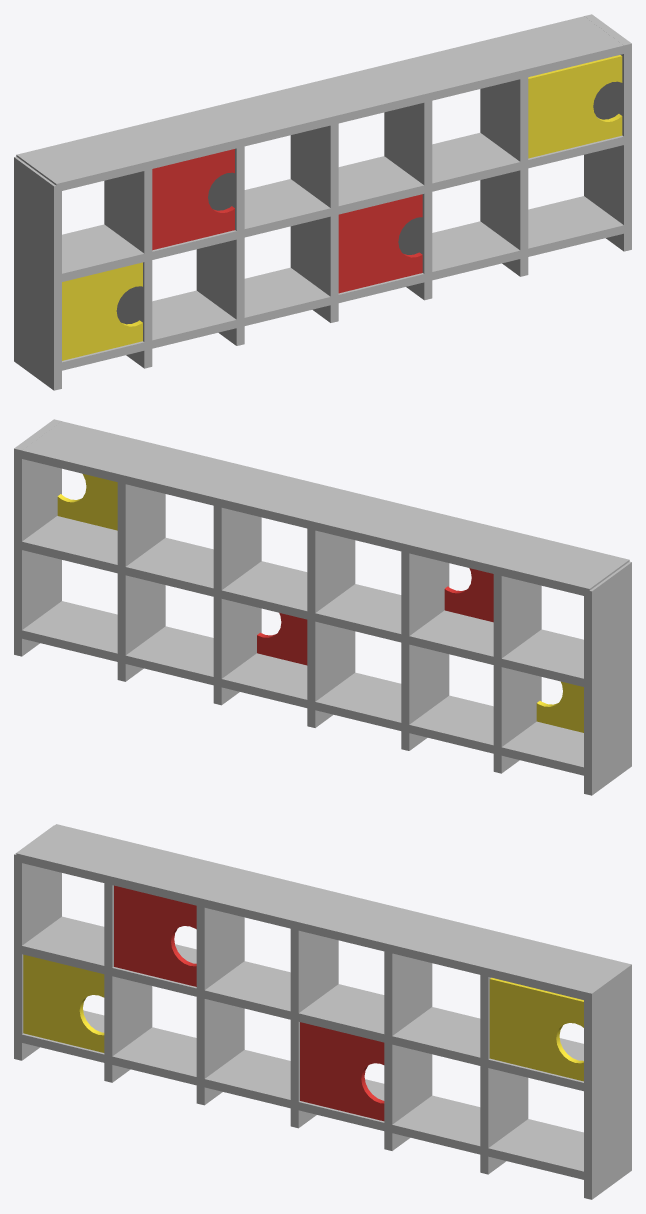
Rendered from Rack_03_Collider.fbx.
3 views of the same model, one above another, from view 1: azimuth 30°, elevation 25°; view 2: azimuth 150°, elevation 25°; view 3: azimuth 330°, elevation 25° (orthographic).
Visible parts, largest first — view 1: Rack_03_Collider; view 2: Rack_03_Collider; view 3: Rack_03_Collider.
Part boxes in pixels (x1,y1,x2,y2): Rack_03_Collider: (14,14,631,390); Rack_03_Collider: (14,419,631,795); Rack_03_Collider: (14,824,631,1199).
Bounding box in the file's own units: 447 × 152 × 53.62.
